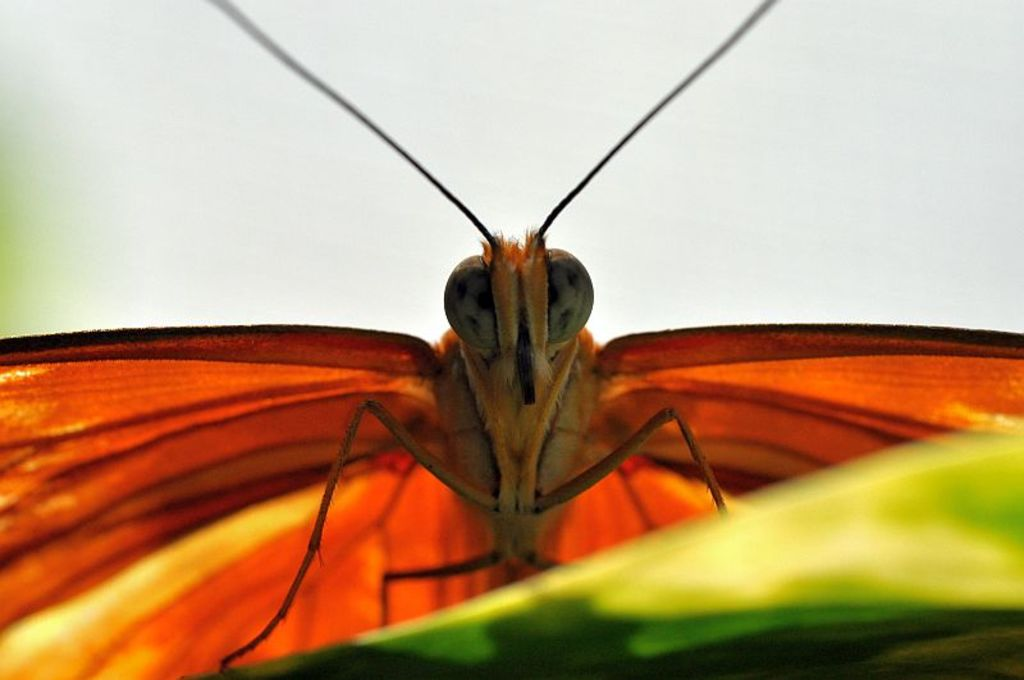Butterfly: (6, 196, 1024, 680)
